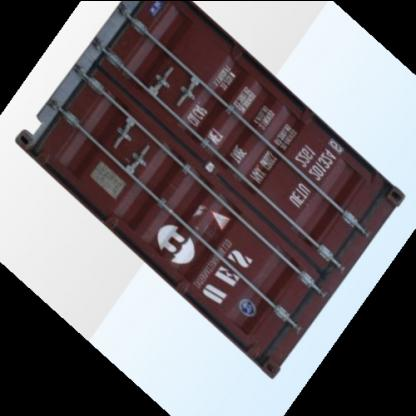Damage: (184, 194, 230, 245), (253, 320, 295, 366), (356, 182, 396, 226)
